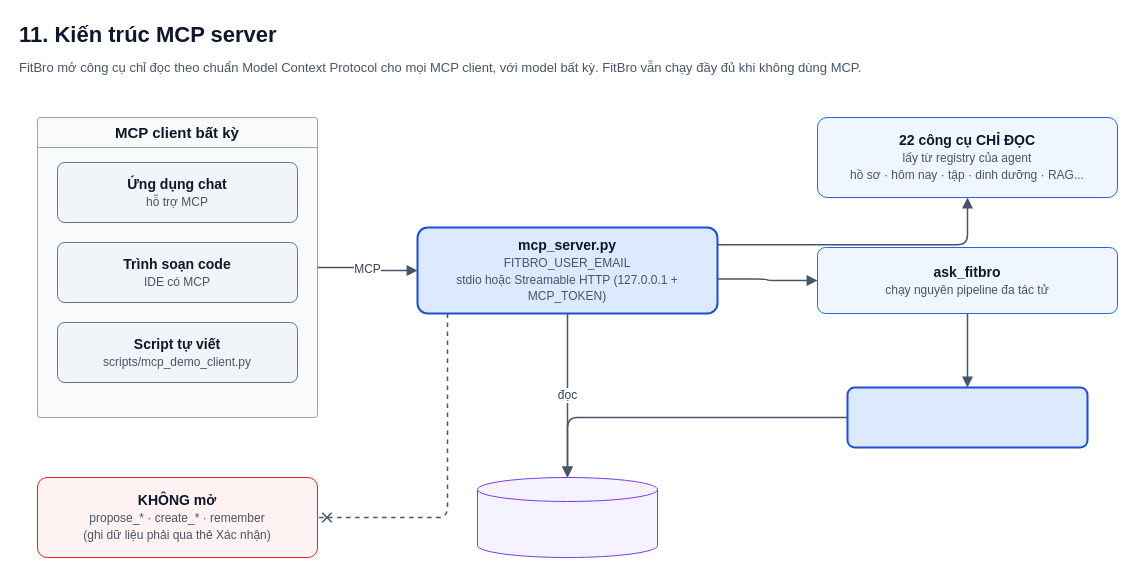
This 1135x575 diagram has some shape labels left out. Each missing label, with the centre of its shape:
Database FitBro: (x=567, y=517)
Guard → Router → Agent có trace: (x=967, y=417)
